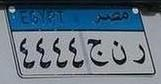4: (18, 36, 35, 72), (52, 34, 68, 71), (69, 36, 85, 71), (36, 37, 51, 70)
jeem: (86, 35, 109, 69)
noon: (110, 38, 127, 69)
raa: (131, 39, 146, 68)
